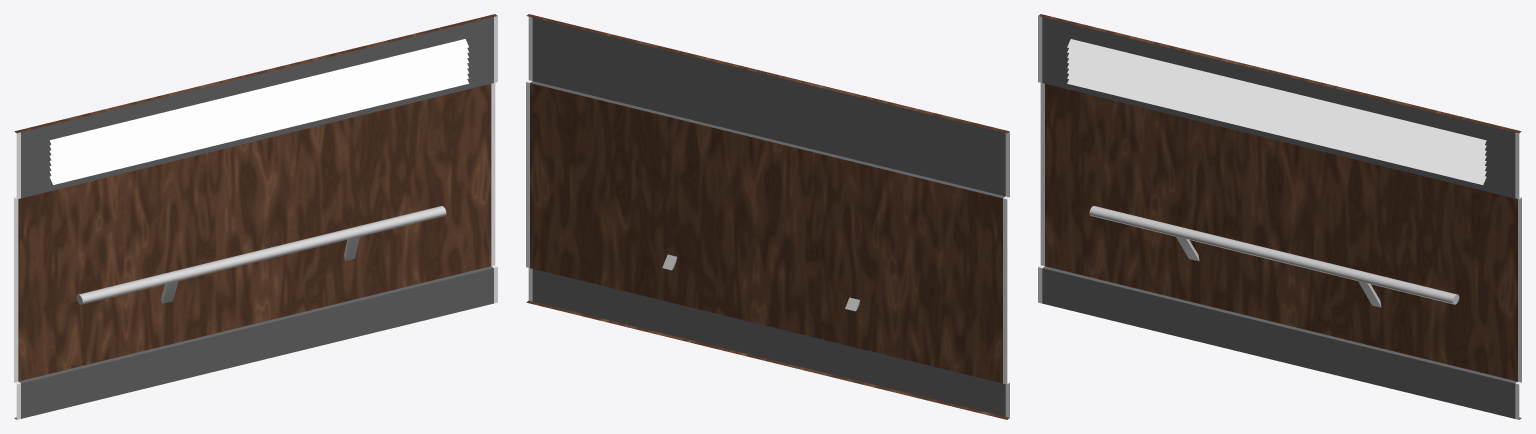
File: wallWithSupport.fbx
3 views of the same model, side by side, from view 1: azimuth 30°, elevation 25°; view 2: azimuth 150°, elevation 25°; view 3: azimuth 330°, elevation 25° (orthographic).
Visible parts, largest first — view 1: Mur, Support; view 2: Mur; view 3: Mur, Support.
Part boxes in pixels (box(x1,y1,x2,y2)): Mur: box(14, 14, 497, 419); Support: box(76, 206, 446, 304); Mur: box(526, 14, 1009, 419); Mur: box(1038, 14, 1521, 419); Support: box(1089, 206, 1459, 307).
Bounding box in the file's own units: 482 × 274 × 23.67.
